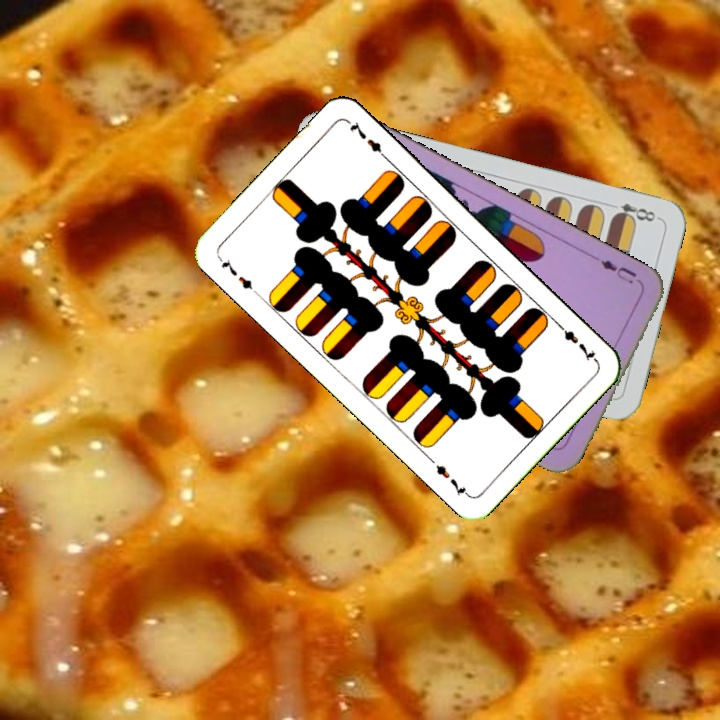E7: (552, 318, 600, 364), (214, 252, 256, 292)
E8: (609, 199, 661, 225)
EU: (596, 255, 640, 287)
